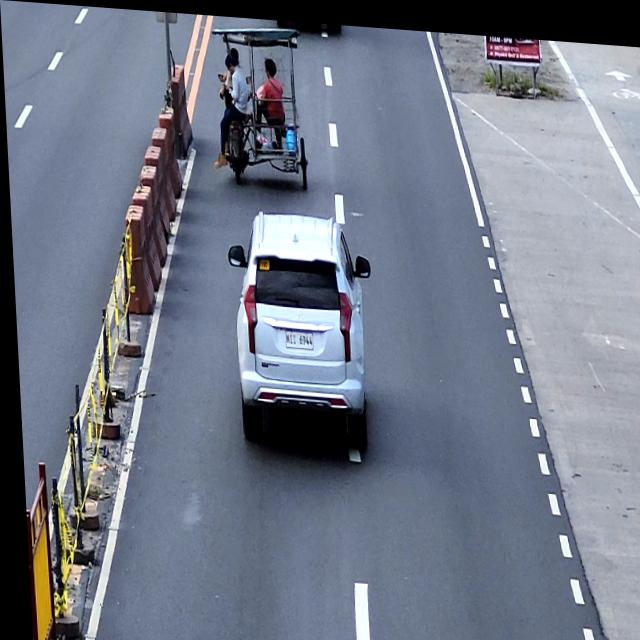Car: (222, 201, 376, 447)
License-Plate: (280, 325, 311, 346)
Tricycle: (209, 18, 308, 187)
